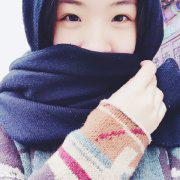WRONG: (49, 1, 145, 84)
